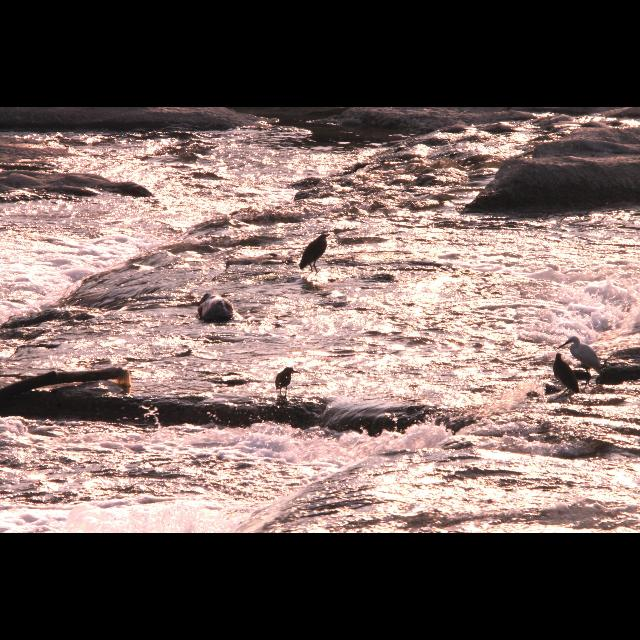egret: (550, 330, 610, 380)
heron: (261, 362, 313, 421), (296, 222, 338, 284)
